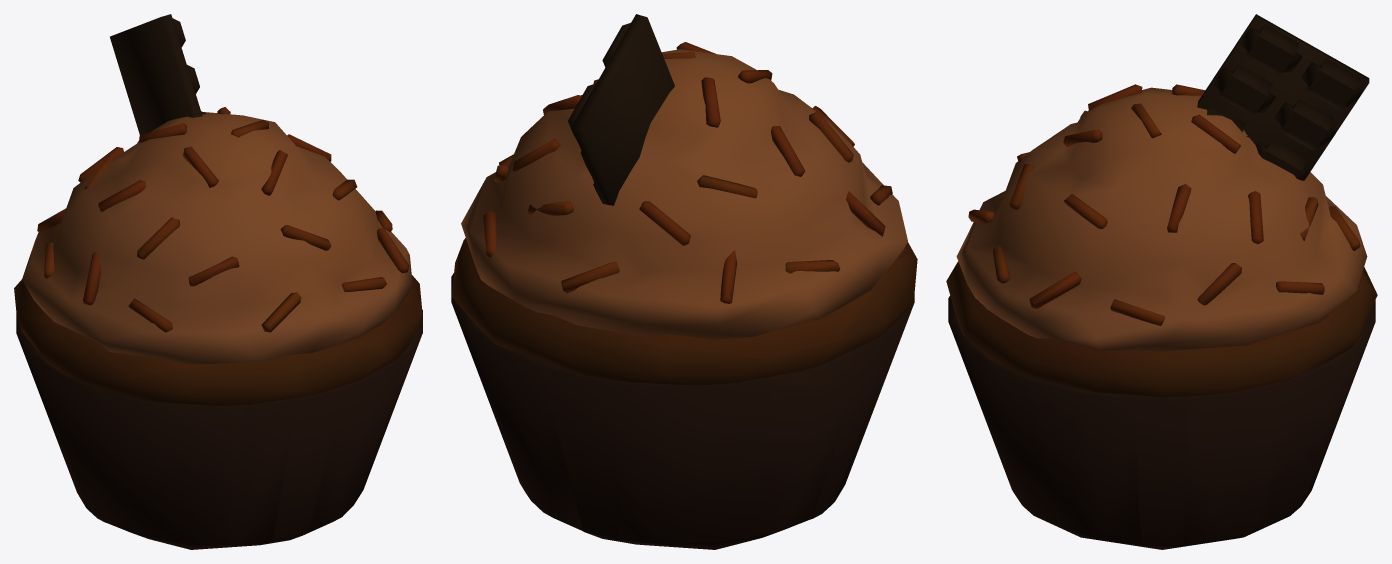
Rendered from Choco_cupcake.fbx.
The picture shows the model from 3 angles, left to right: view 1: azimuth 30°, elevation 25°; view 2: azimuth 150°, elevation 25°; view 3: azimuth 270°, elevation 25°; orthographic projection. The views are drawn at different scales.
Visible parts, largest first — view 1: Choco_cupcake; view 2: Choco_cupcake; view 3: Choco_cupcake.
Boxes of the visible parts, x1,y1,x2,y2 form: Choco_cupcake: (14, 14, 422, 549); Choco_cupcake: (451, 14, 917, 549); Choco_cupcake: (946, 14, 1377, 549).
Size of the model in its own units: 77.42 by 99.29 by 77.41.
